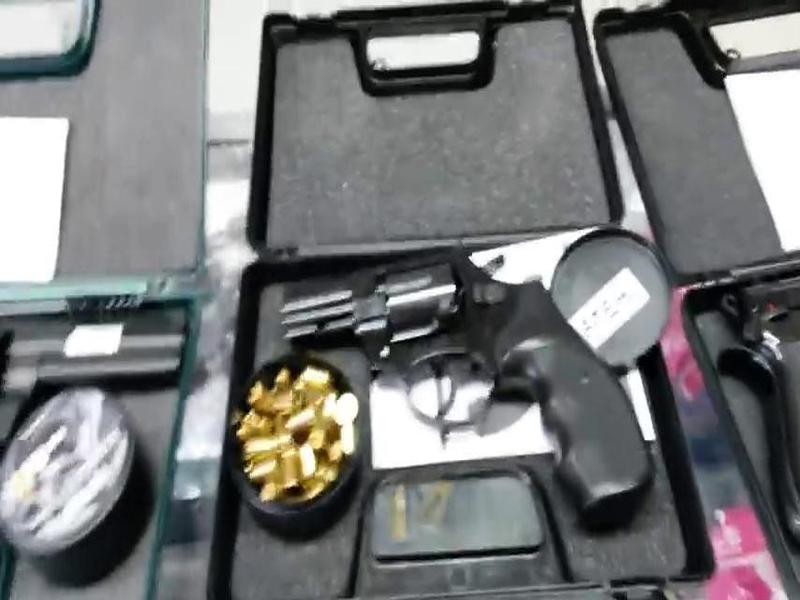Revolver: (241, 229, 676, 525)
